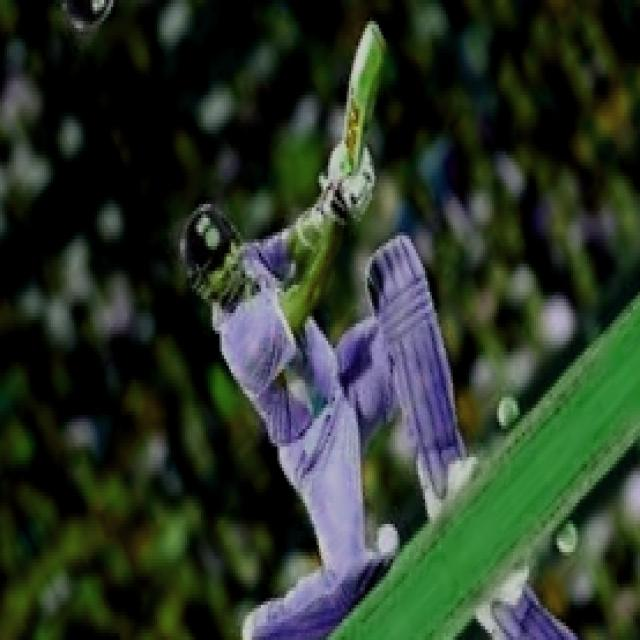toe: (358, 9, 392, 93)
